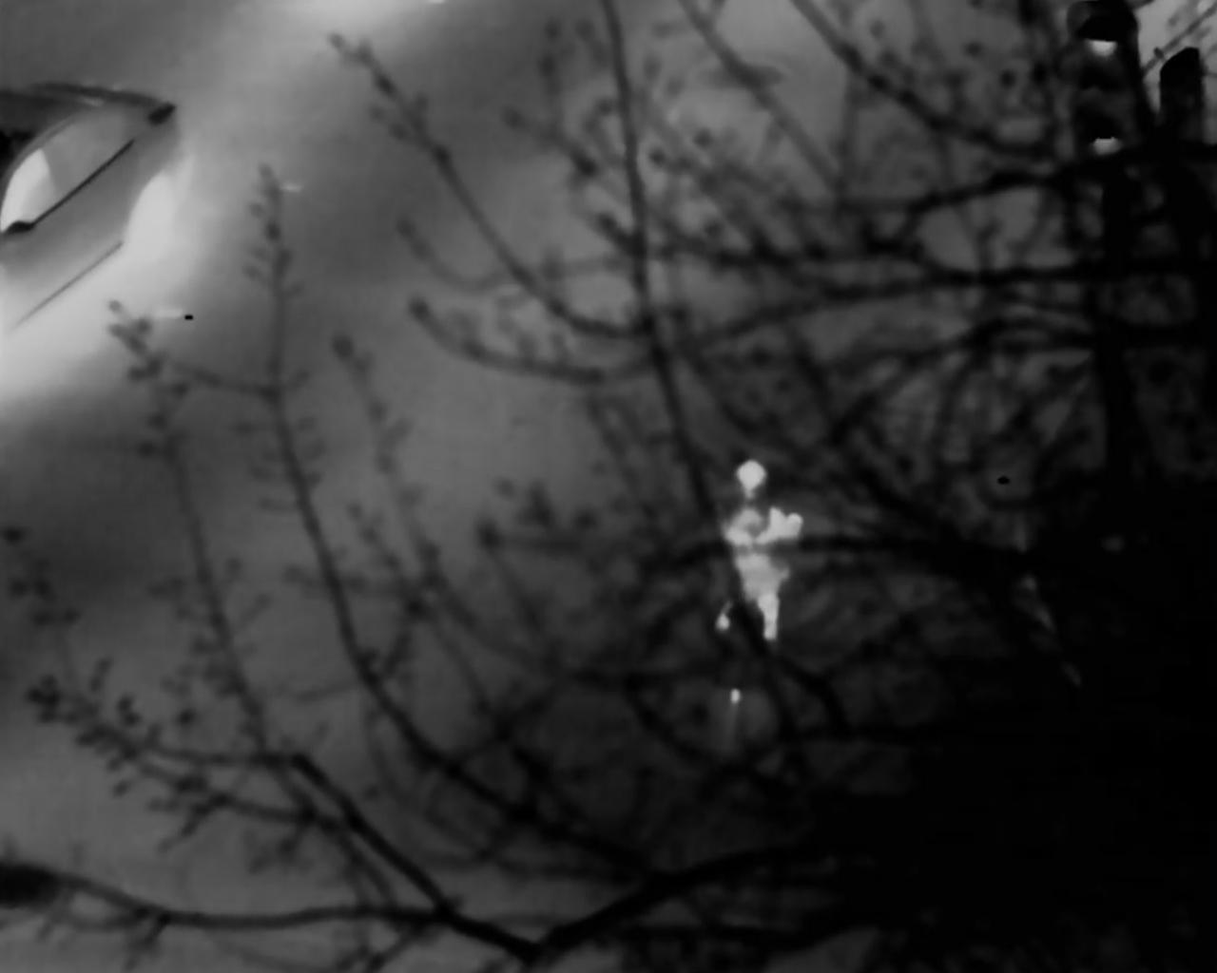person: (721, 443, 792, 640)
